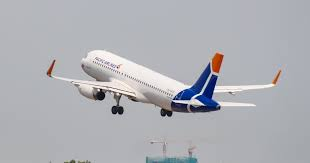maybay_dansu: (45, 42, 276, 120)
